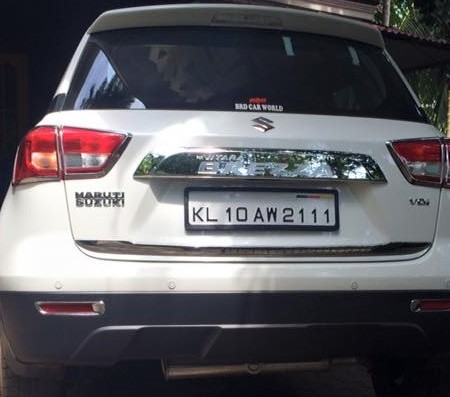KL10AW2111: (186, 189, 336, 228)
